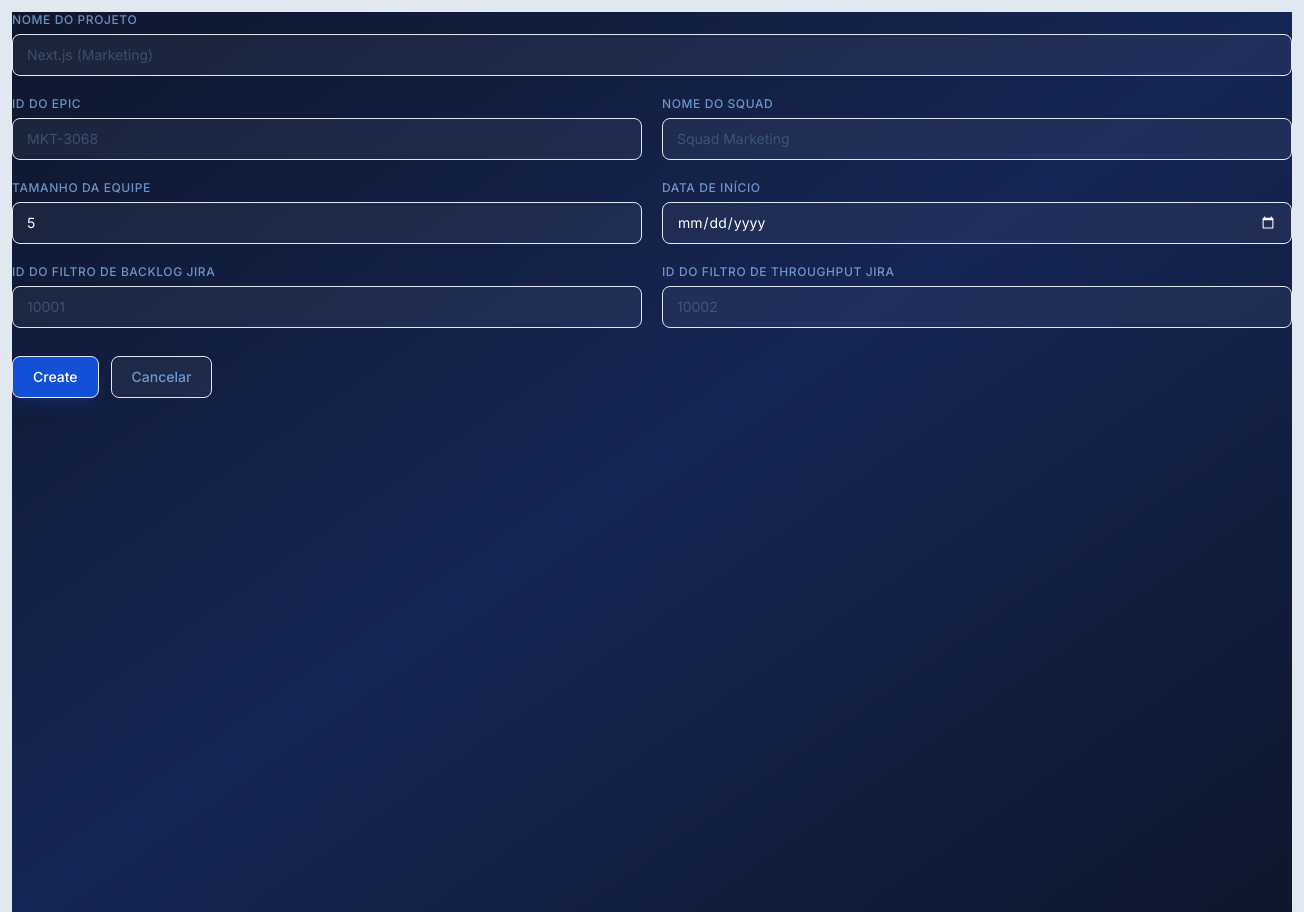
Test: ProjectForm › shows "Saving..." label while submitting
// Fill required fields
Step 1. Type "Test" into the field labelled "Nome do Projeto" → (652, 55), box [12,34,1292,76]
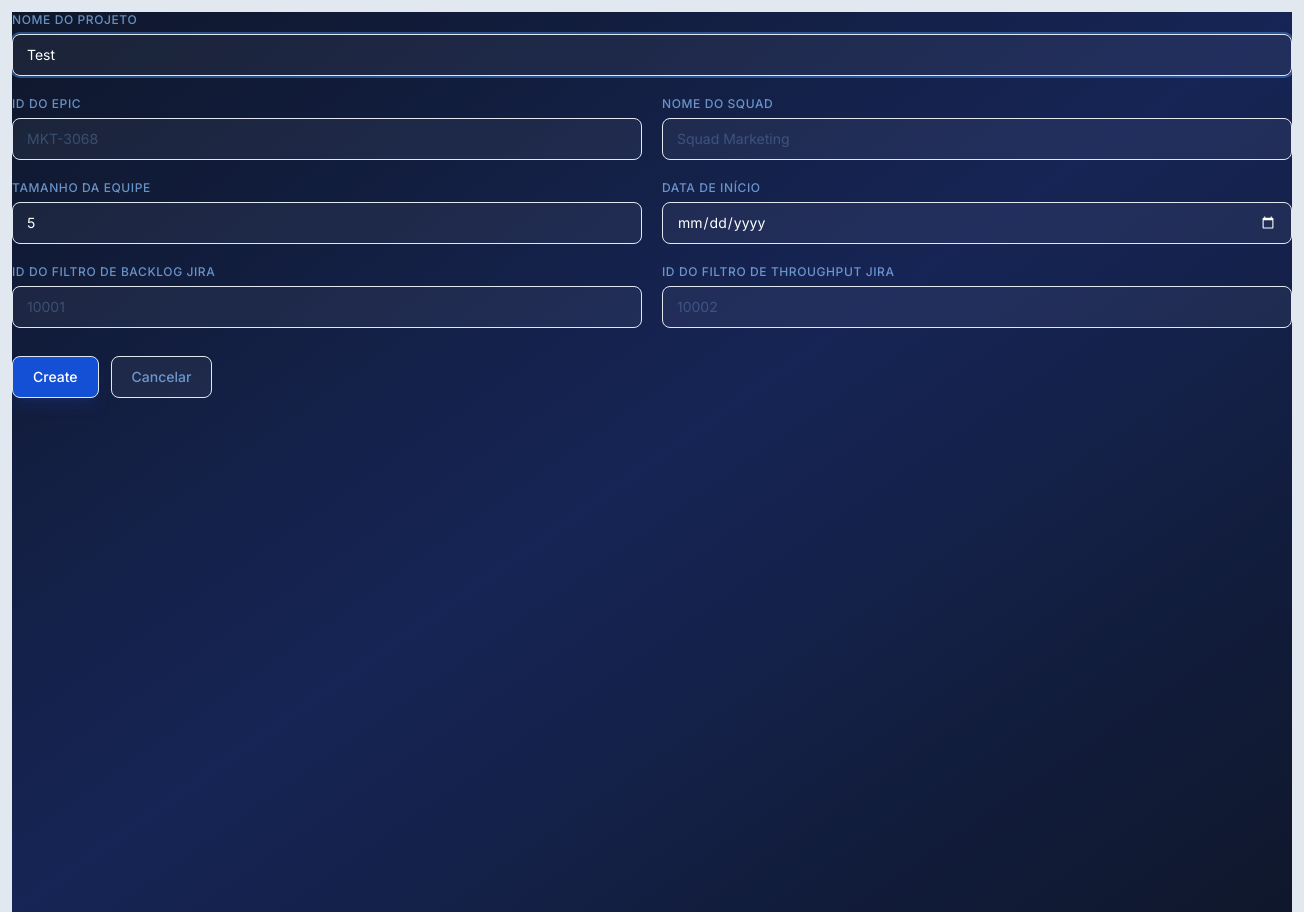
Step 2. Type "EPC-1" into the field labelled "ID do Epic" → (327, 139), box [12,118,642,160]
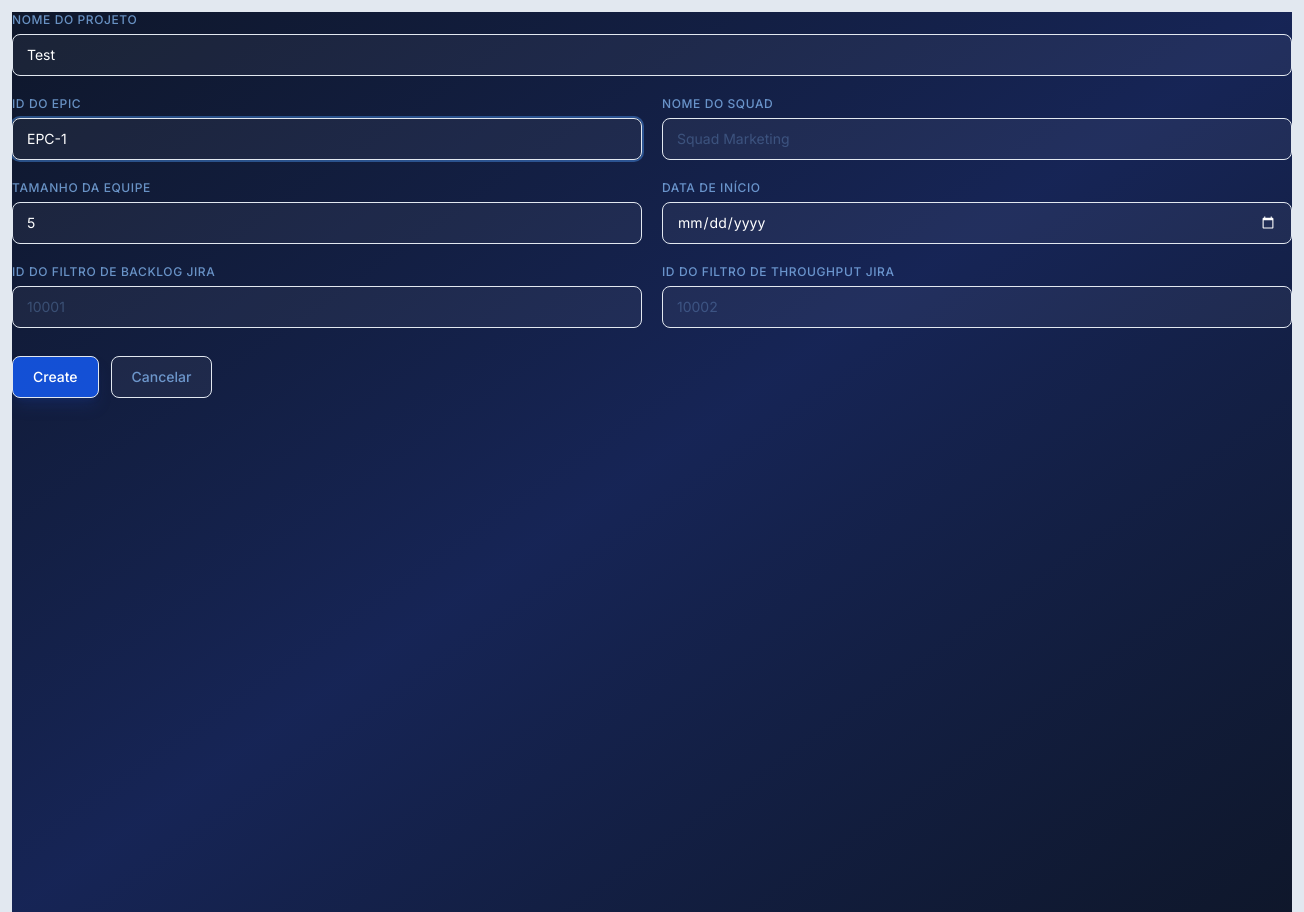
Step 3. Type "Squad" into the field labelled "Nome do Squad" → (977, 139), box [662,118,1292,160]
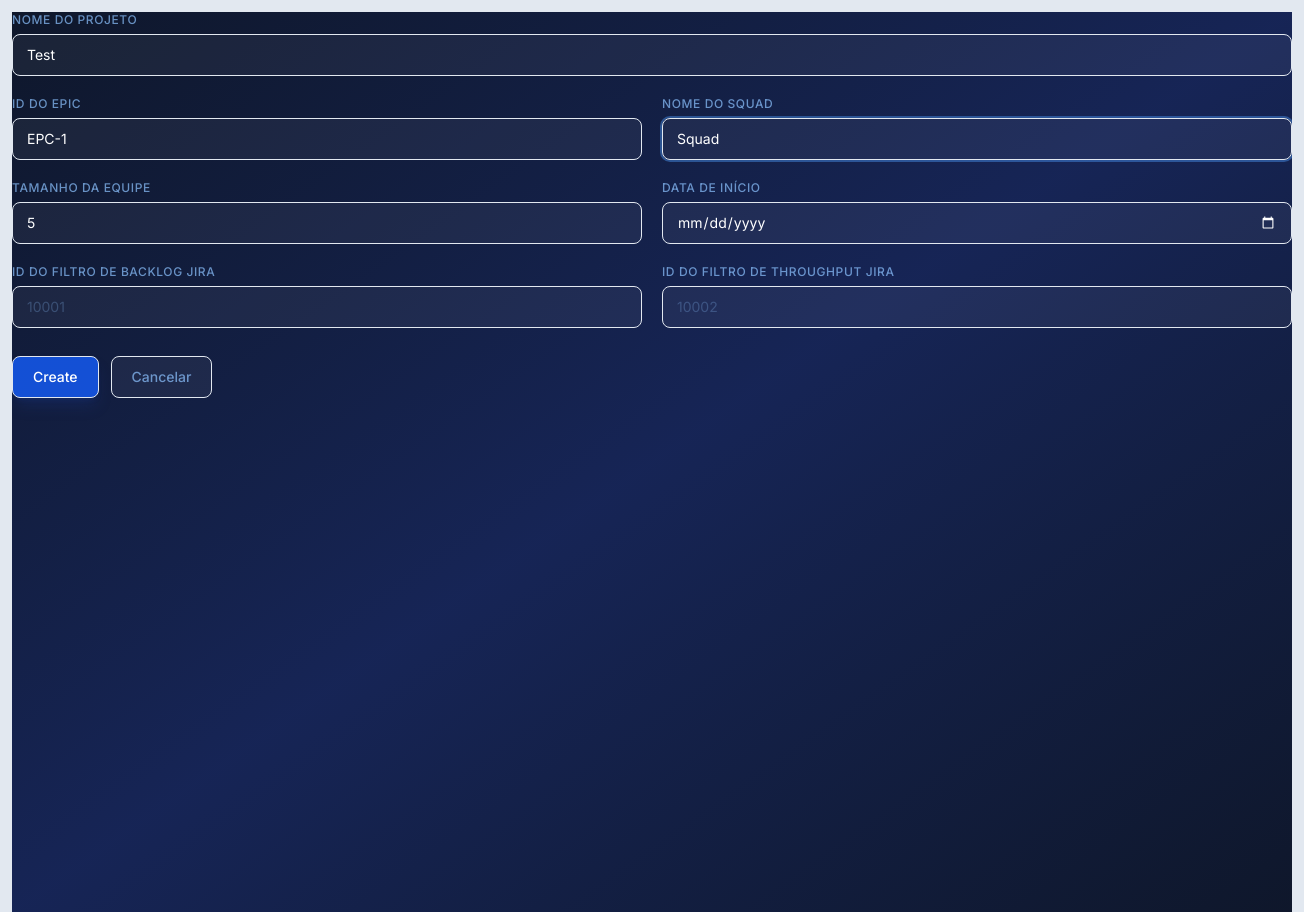
Step 4. Type "2025-01-06" into the date field labelled "Data de Início" → (977, 223), box [662,202,1292,244]
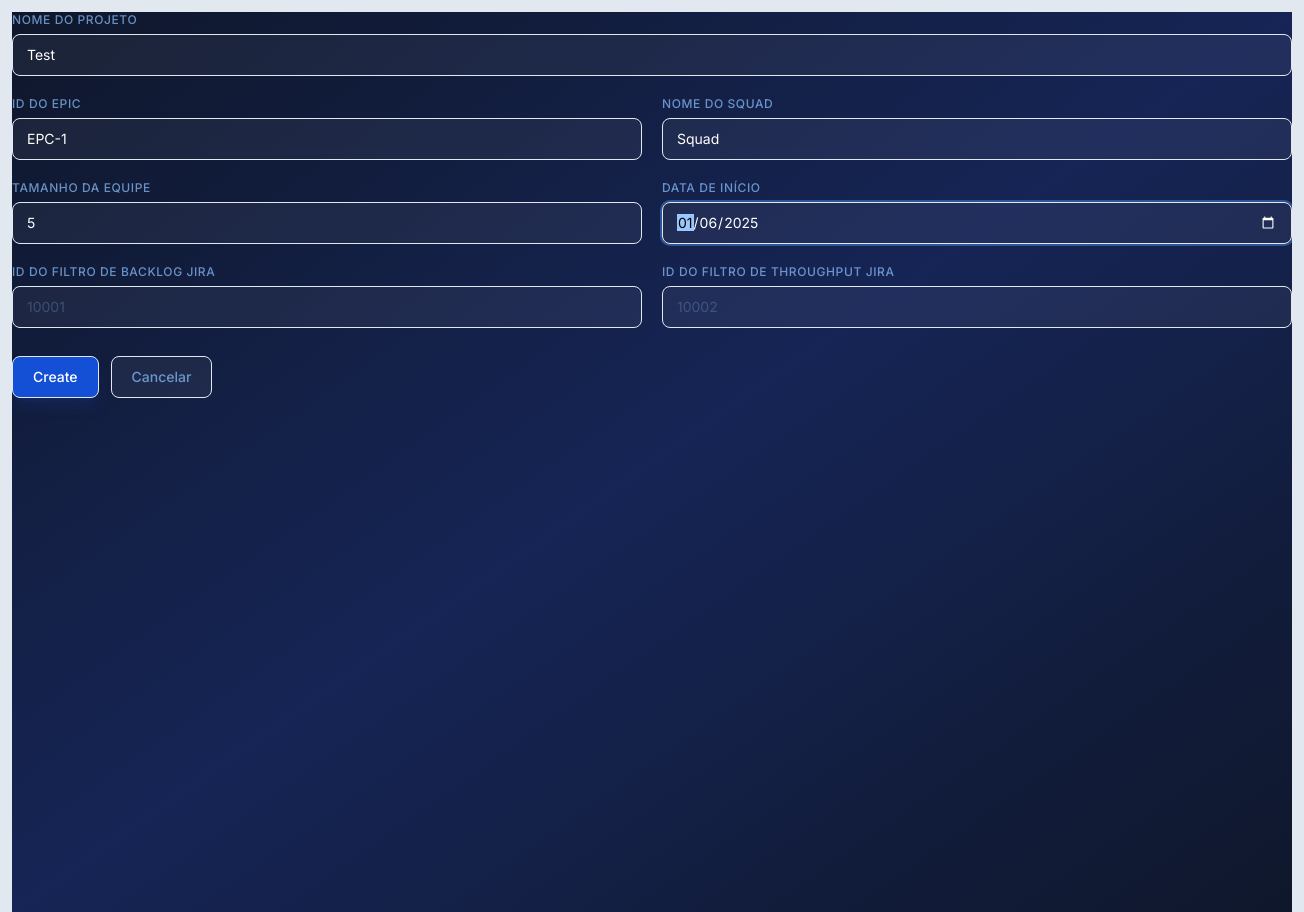
Step 5. Submit the form from the button "Create", box [12,356,99,398]
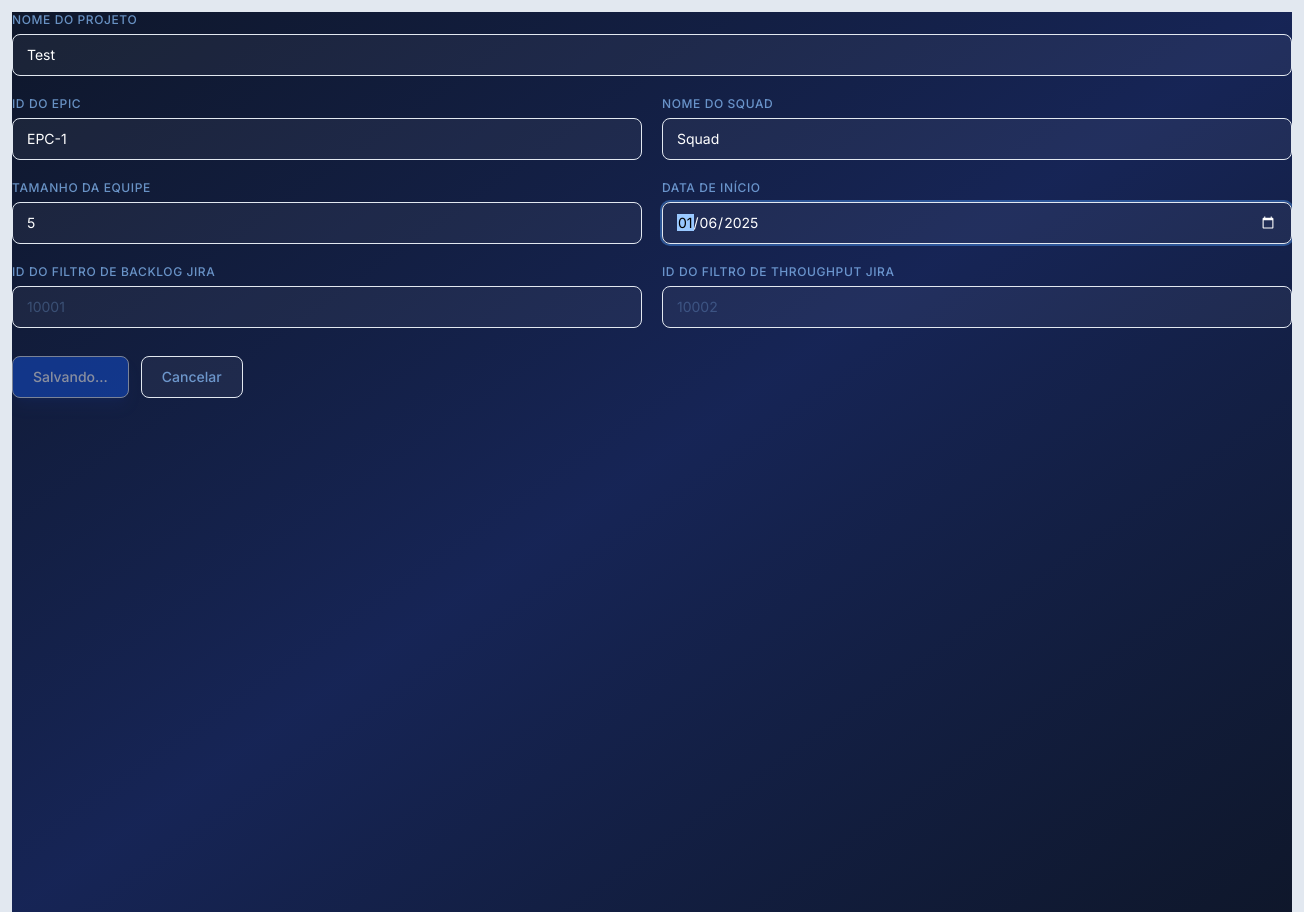
Result: the button "Salvando..." is disabled at [12,356,129,398]
